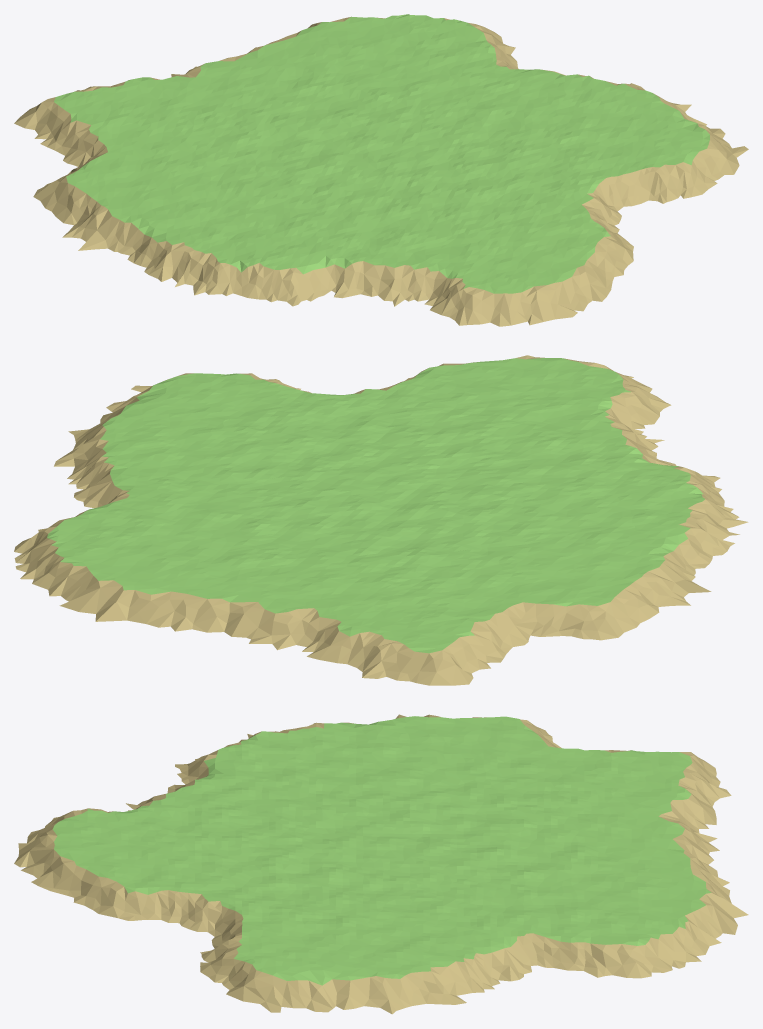
Rendered from CPT_Island_H_a_02_LOD.fbx.
3 views of the same model, one above another, from view 1: azimuth 30°, elevation 25°; view 2: azimuth 150°, elevation 25°; view 3: azimuth 270°, elevation 25° (orthographic). The views are drawn at different scales.
Parts seen in each view (by area): view 1: CPT_Island_H_a_02_LOD0; view 2: CPT_Island_H_a_02_LOD0; view 3: CPT_Island_H_a_02_LOD0.
Boxes of the visible parts, bbox=[...] form: CPT_Island_H_a_02_LOD0: bbox=[14, 14, 748, 326]; CPT_Island_H_a_02_LOD0: bbox=[14, 355, 748, 685]; CPT_Island_H_a_02_LOD0: bbox=[14, 714, 748, 1014].
Size of what is drawn, in the model's own units: 41610 by 1413 by 43101.
